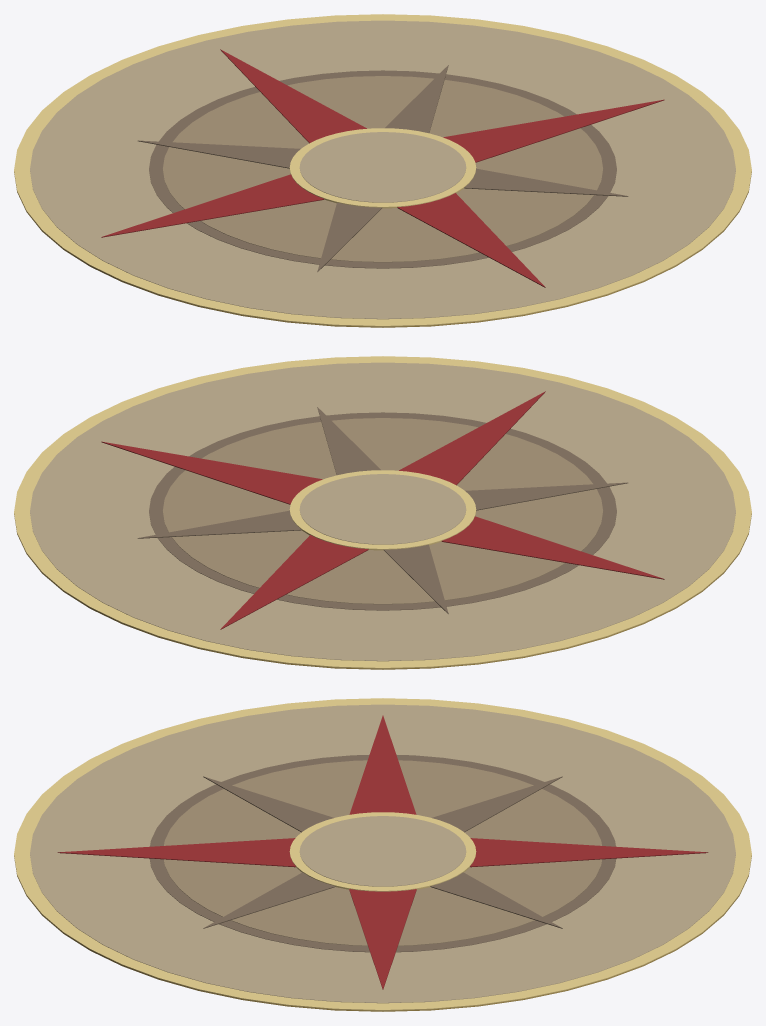
File: plaza_Paving_b.glb
The picture shows the model from 3 angles, top to bottom: view 1: azimuth 30°, elevation 25°; view 2: azimuth 150°, elevation 25°; view 3: azimuth 270°, elevation 25°; orthographic projection.
Parts seen in each view (by area): view 1: Paving; view 2: Paving; view 3: Paving.
Boxes of the visible parts, x1=… form: Paving: x1=14, y1=14, x2=751, y2=327; Paving: x1=14, y1=356, x2=751, y2=669; Paving: x1=14, y1=698, x2=751, y2=1011.
Size of what is drawn, in the model's own units: 18.6 by 0.13 by 18.6.
Materials: 1 (1 with a texture image).
